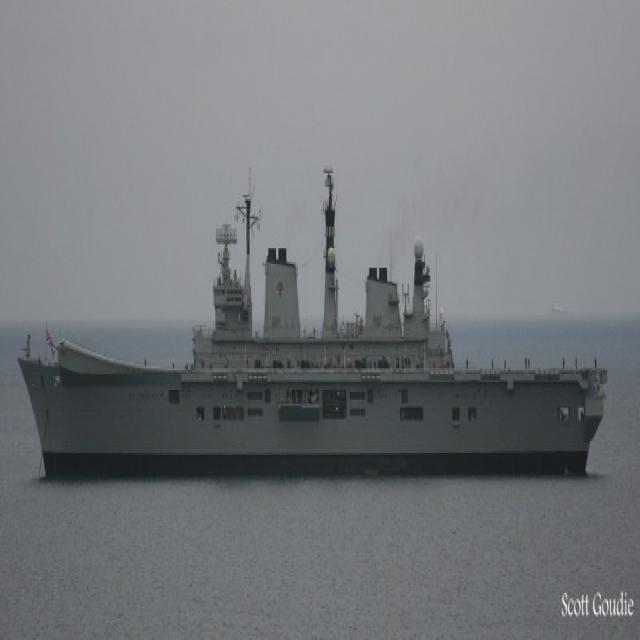Portanaves: (19, 157, 613, 486)
